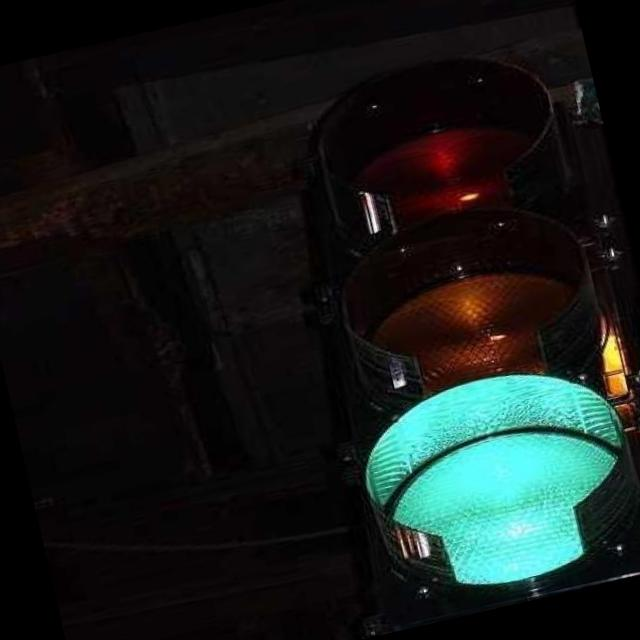green-lights: (299, 331, 640, 628)
